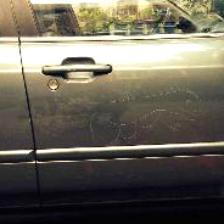door_scratch: (12, 76, 205, 158)
